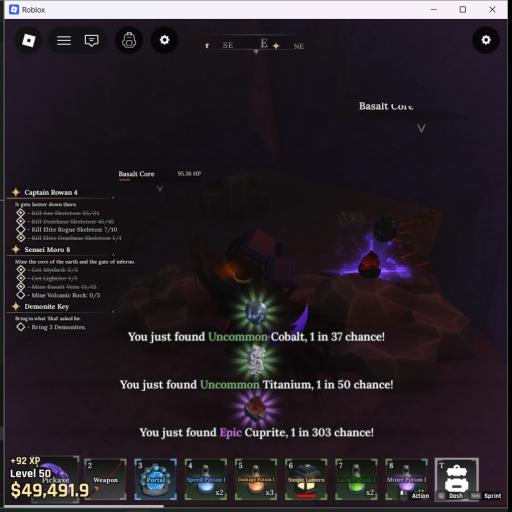player: (190, 230, 282, 314)
rock: (292, 251, 474, 390), (114, 265, 223, 332), (200, 172, 268, 218)
